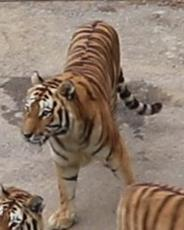tiger: (23, 20, 136, 229)
